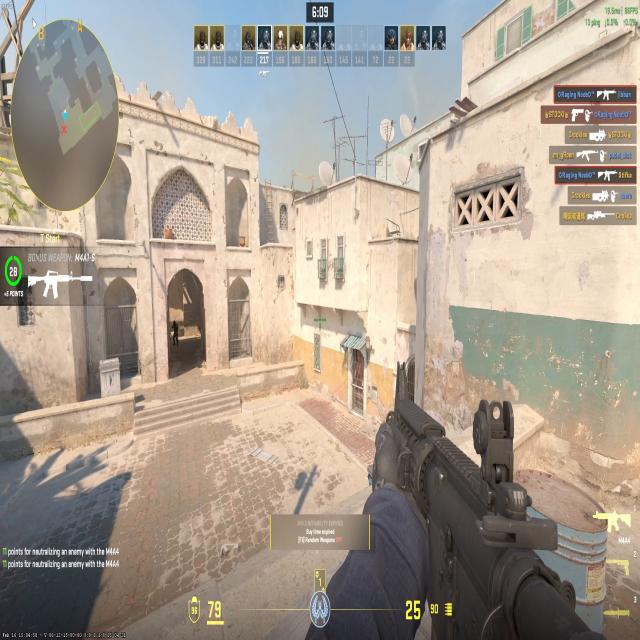player: (169, 317, 181, 349)
